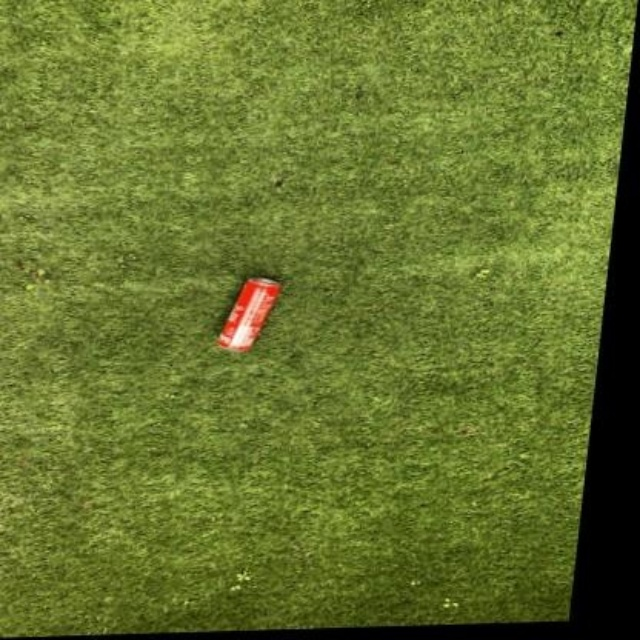trash: (217, 278, 280, 349)
